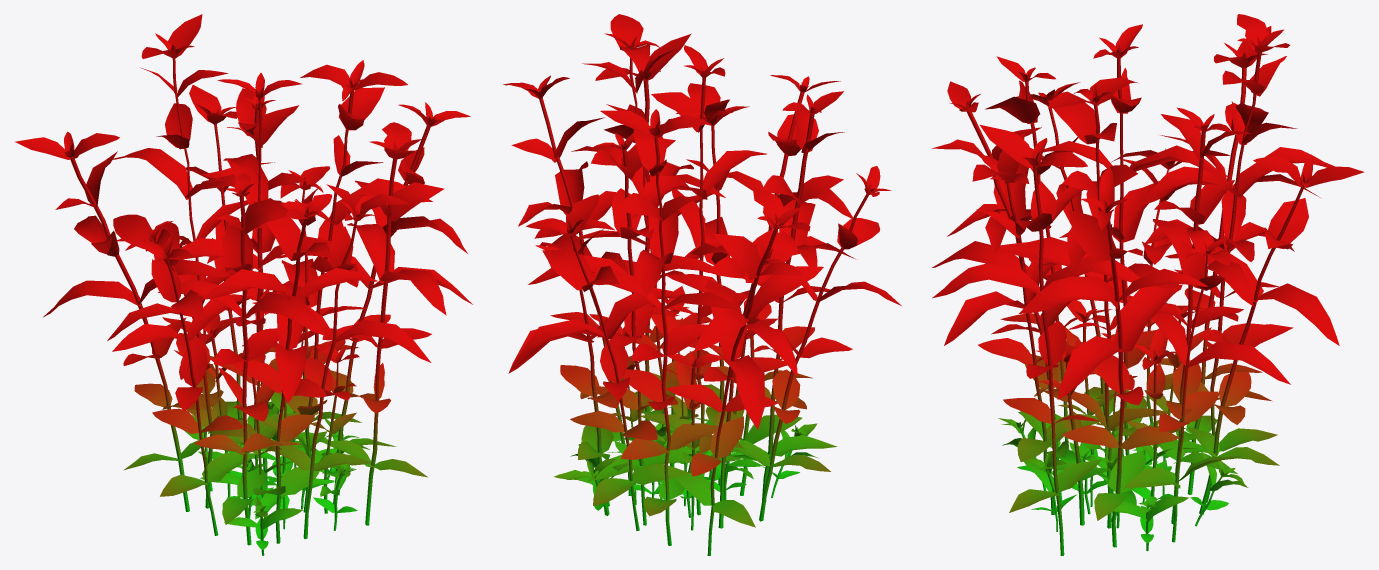
File: Var2_LOD2.fbx
3 views of the same model, side by side, from view 1: azimuth 30°, elevation 25°; view 2: azimuth 150°, elevation 25°; view 3: azimuth 270°, elevation 25° (orthographic). The views are drawn at different scales.
Parts seen in each view (by area): view 1: _z3vc_Var2_LOD2; view 2: _z3vc_Var2_LOD2; view 3: _z3vc_Var2_LOD2.
Part boxes in pixels (bbox=[...]): _z3vc_Var2_LOD2: bbox=[15, 14, 472, 555]; _z3vc_Var2_LOD2: bbox=[503, 14, 901, 555]; _z3vc_Var2_LOD2: bbox=[932, 14, 1364, 555].
Size of the model in its own units: 48.05 by 54.68 by 45.
